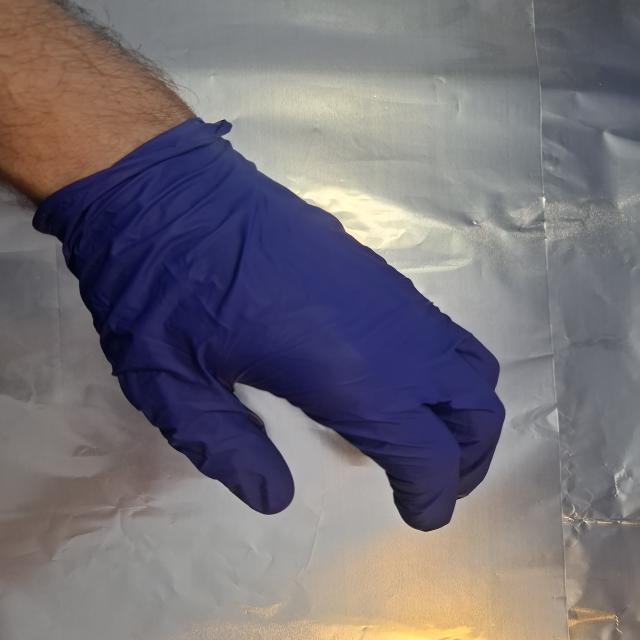glove_on: (62, 126, 510, 534)
